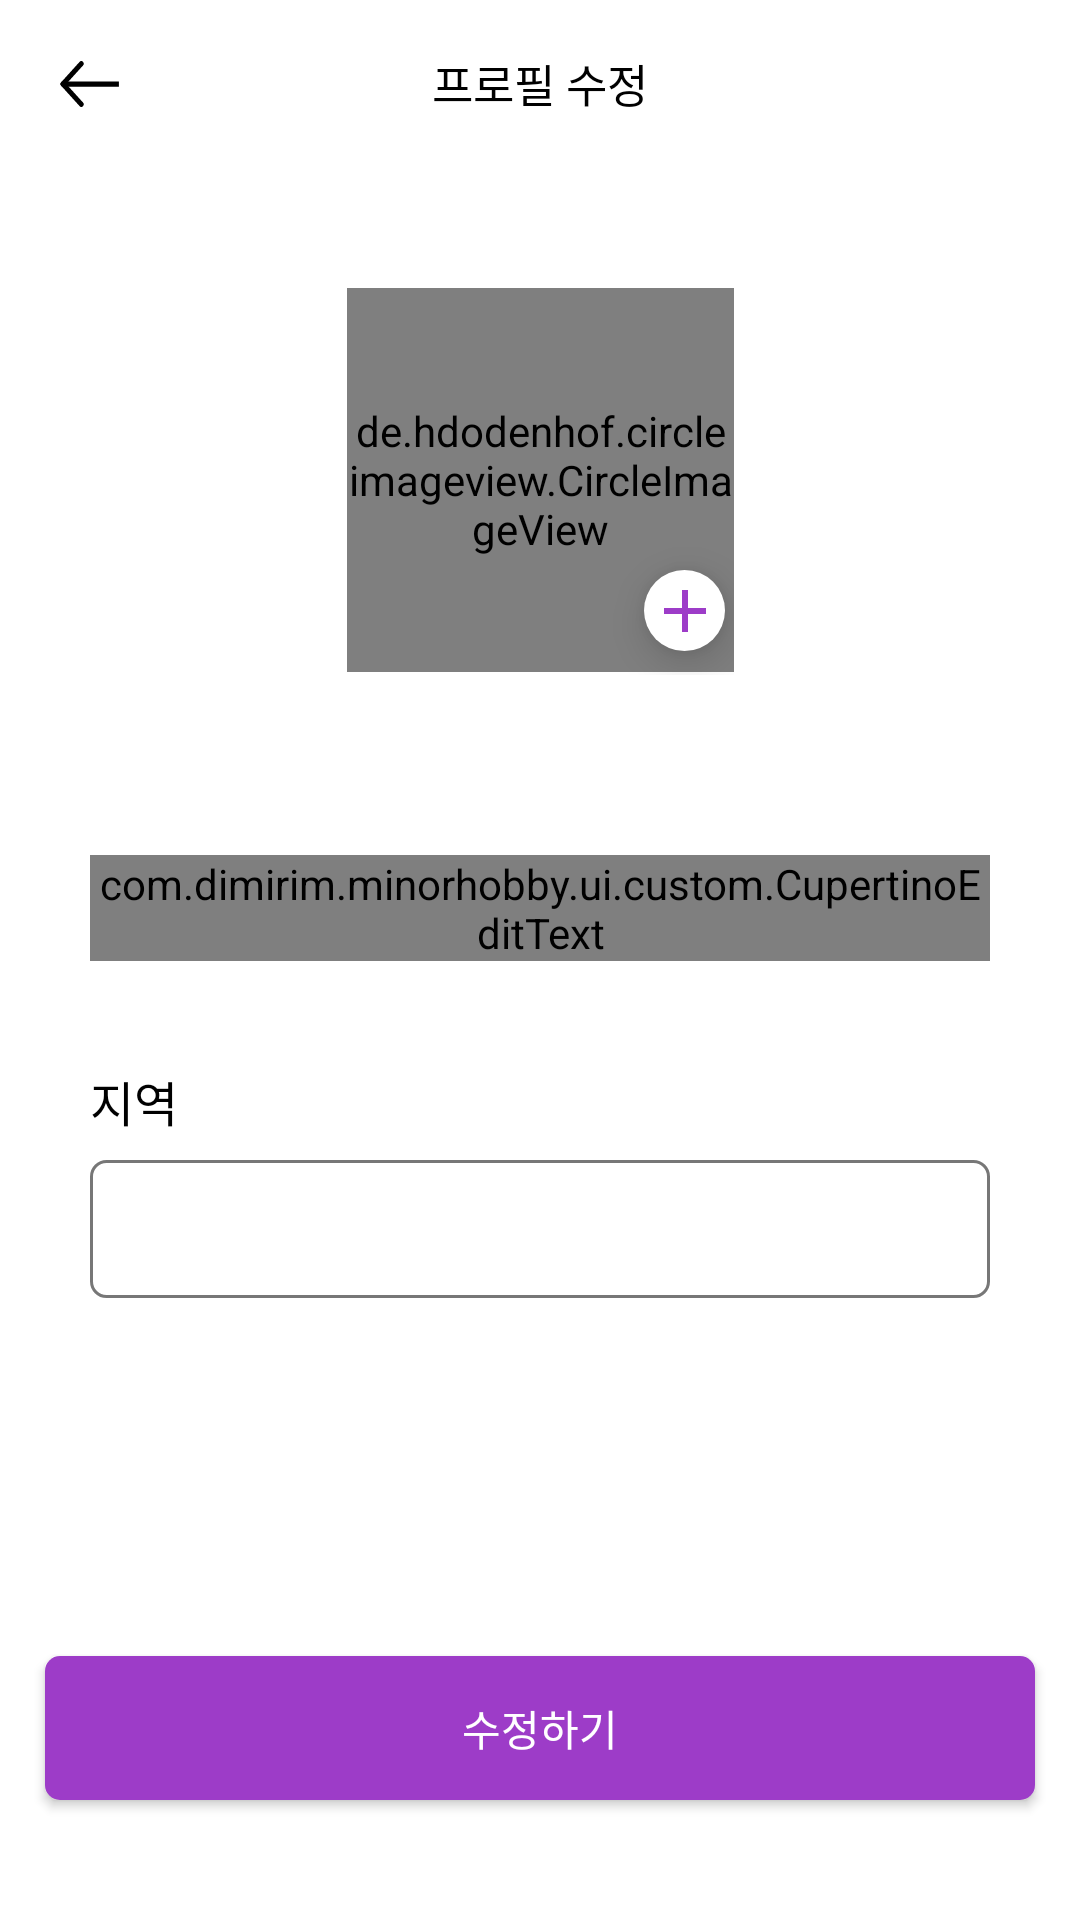

Named icons in this screenshot (1080w x 1920h) and their centers, point (x, y):
add: point (684, 610)
back: point (89, 84)
